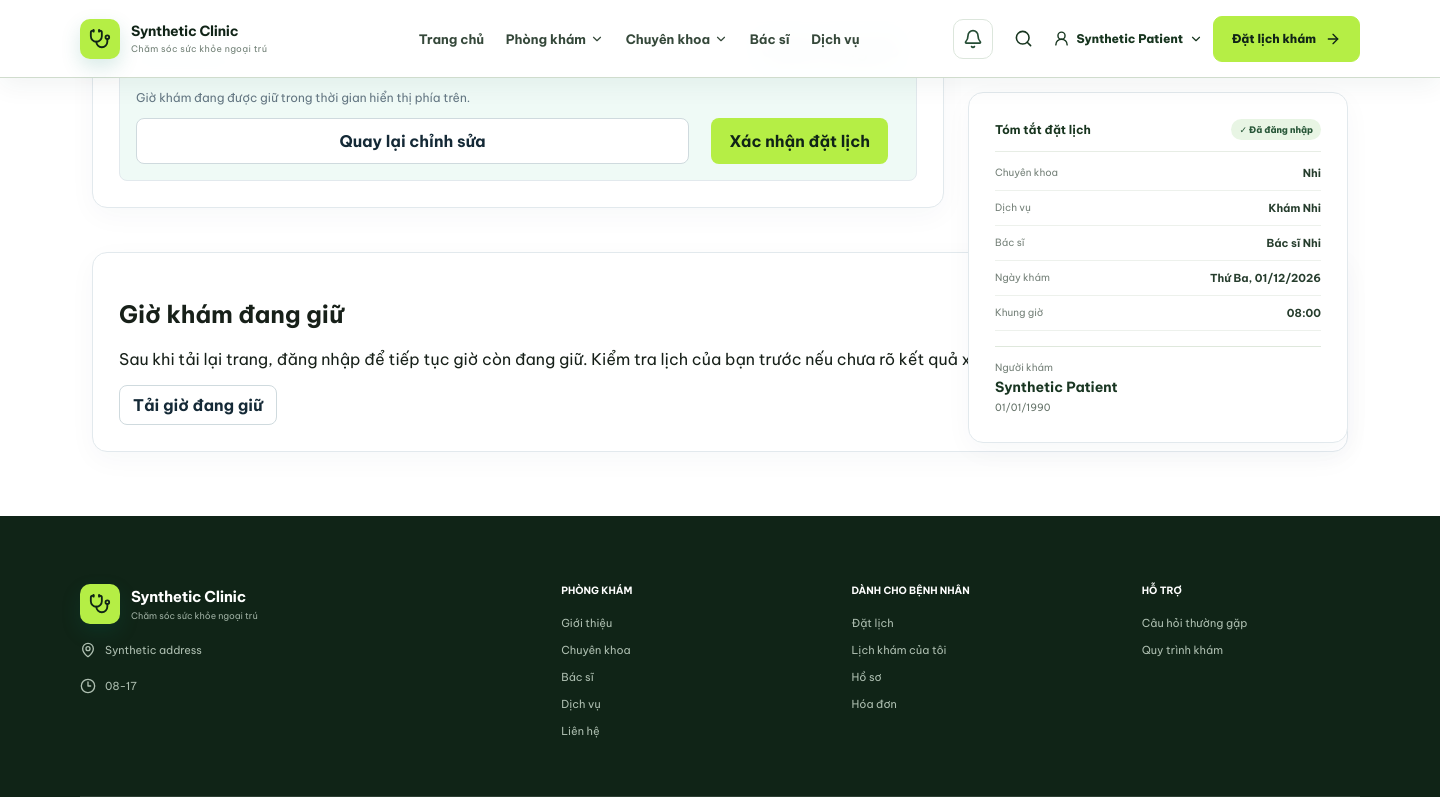
Test case: recovers a reschedule hold from server intent and never confirms it as a new booking
This screenshot has width=1440, height=797.
(page scrolled)
Click the button "Tải giờ đang giữ" at (198, 405), box x1=119 y1=385 x2=277 y2=425
(page scrolled)
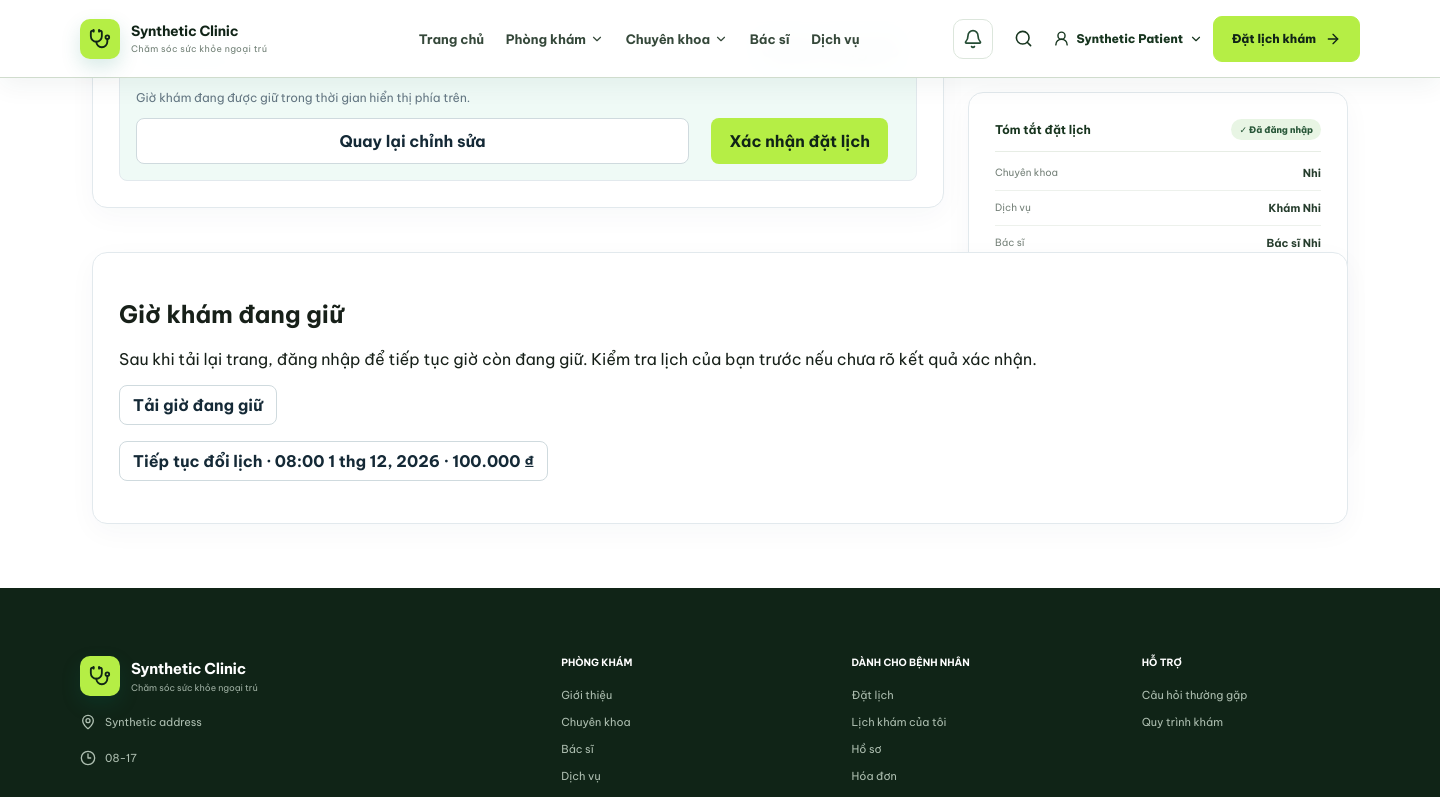
Click the button "Tiếp tục đổi lịch" at (334, 461), box x1=119 y1=441 x2=548 y2=481
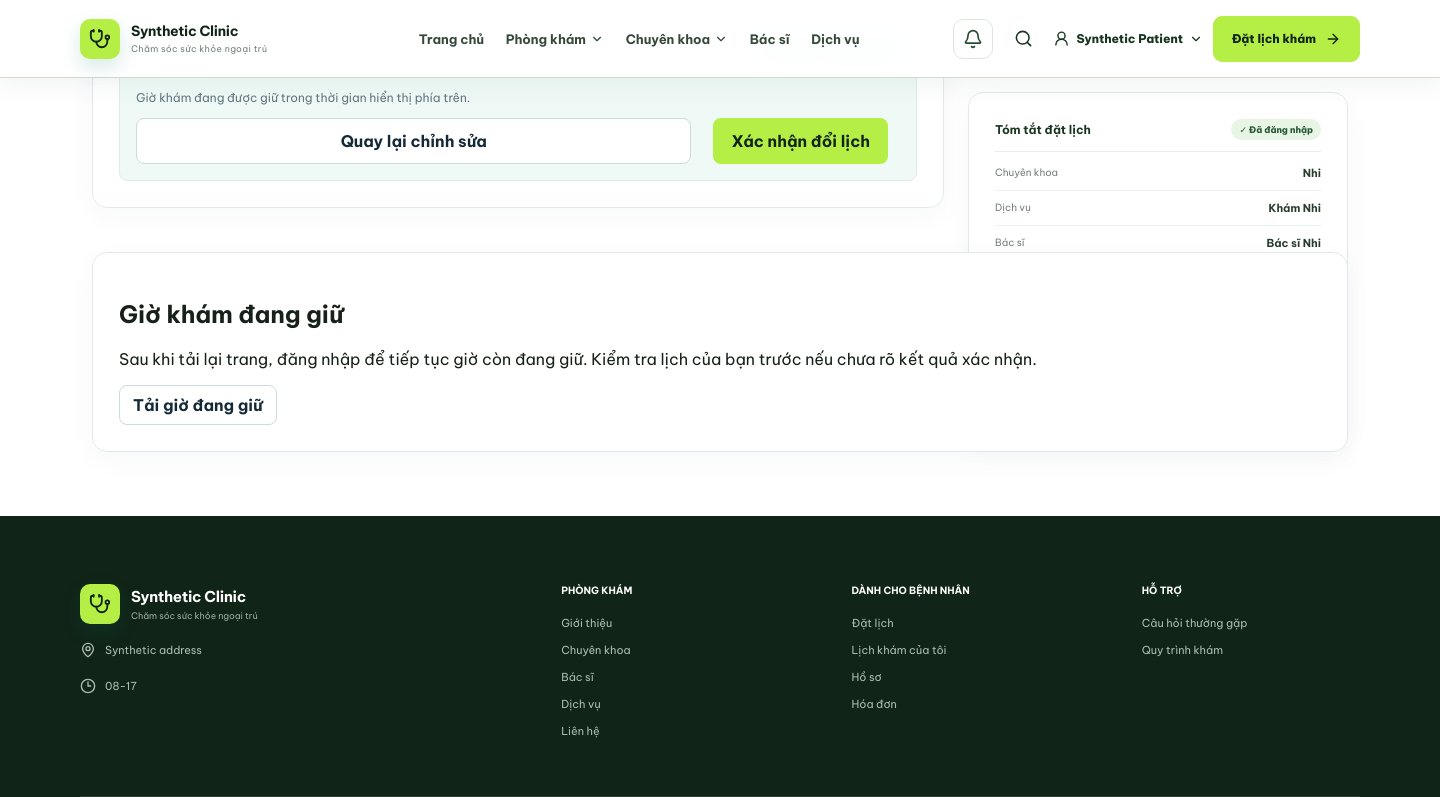
Click the button "Xác nhận đổi lịch" at (801, 141), box x1=714 y1=118 x2=888 y2=164
(page scrolled)
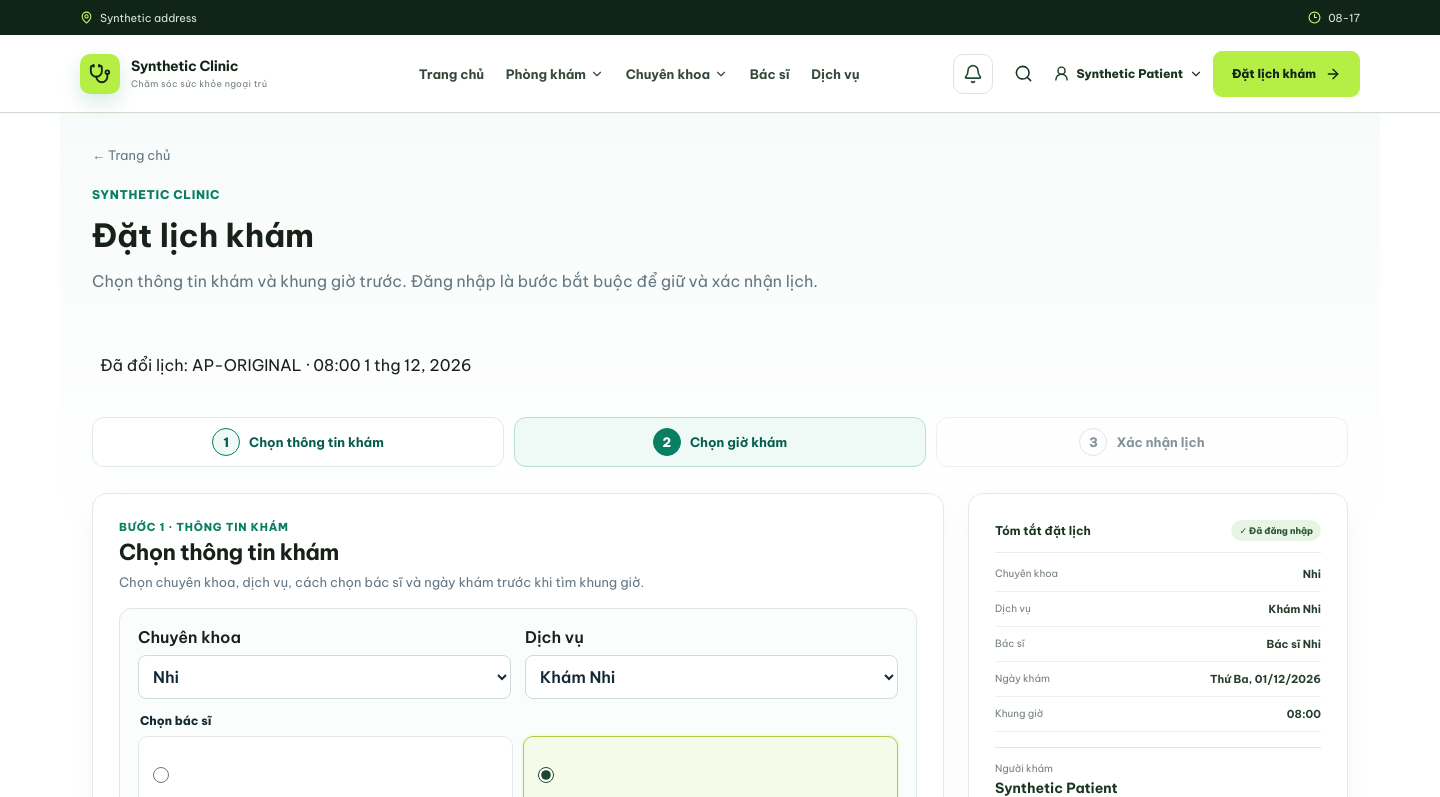
Expected: the text "Đã đổi lịch: AP-ORIGINAL" is shown, x1=100 y1=355 x2=472 y2=375
